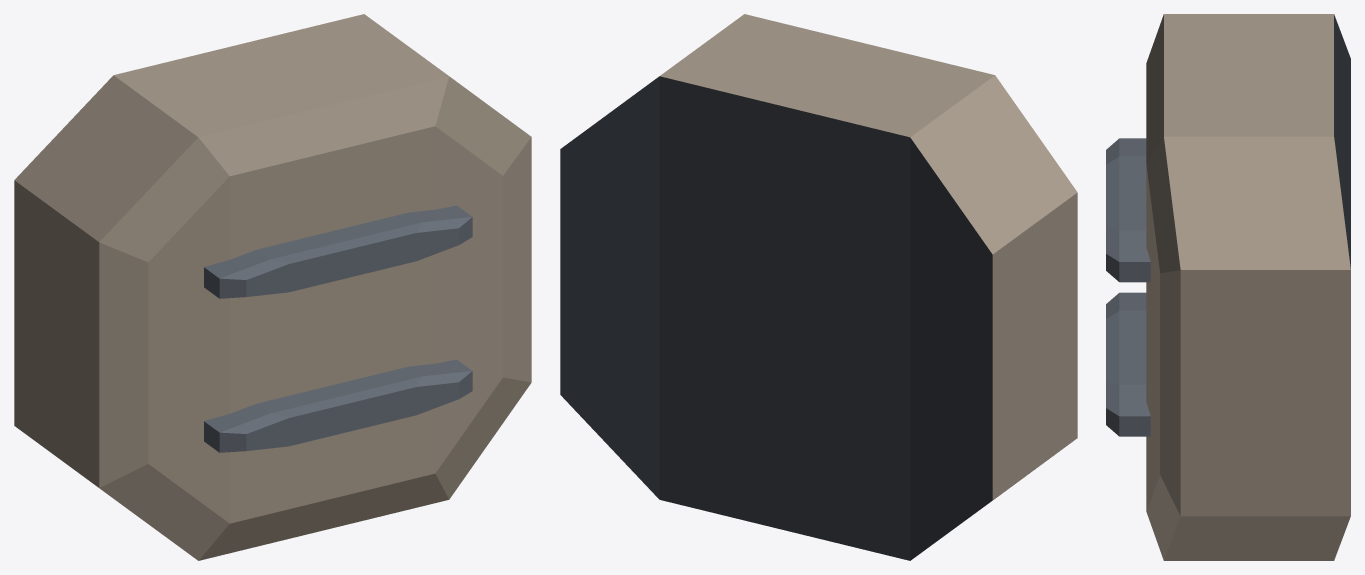
The model's file is knee_heavy.glb.
3 renders of one model, left to right at view 1: azimuth 30°, elevation 25°; view 2: azimuth 150°, elevation 25°; view 3: azimuth 270°, elevation 25°, orthographic.
Parts seen in each view (by area): view 1: knee_heavy; view 2: knee_heavy; view 3: knee_heavy.
Part boxes in pixels (x1,y1,x2,y2): knee_heavy: (14, 14, 531, 560); knee_heavy: (560, 14, 1077, 560); knee_heavy: (1106, 14, 1350, 560).
Size of the model in its own units: 0.94 by 0.88 by 0.4602.
